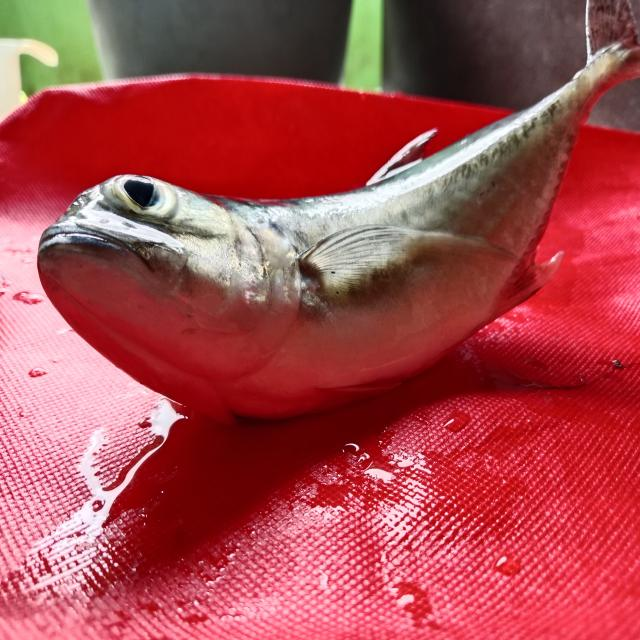ikan: (25, 71, 602, 432)
